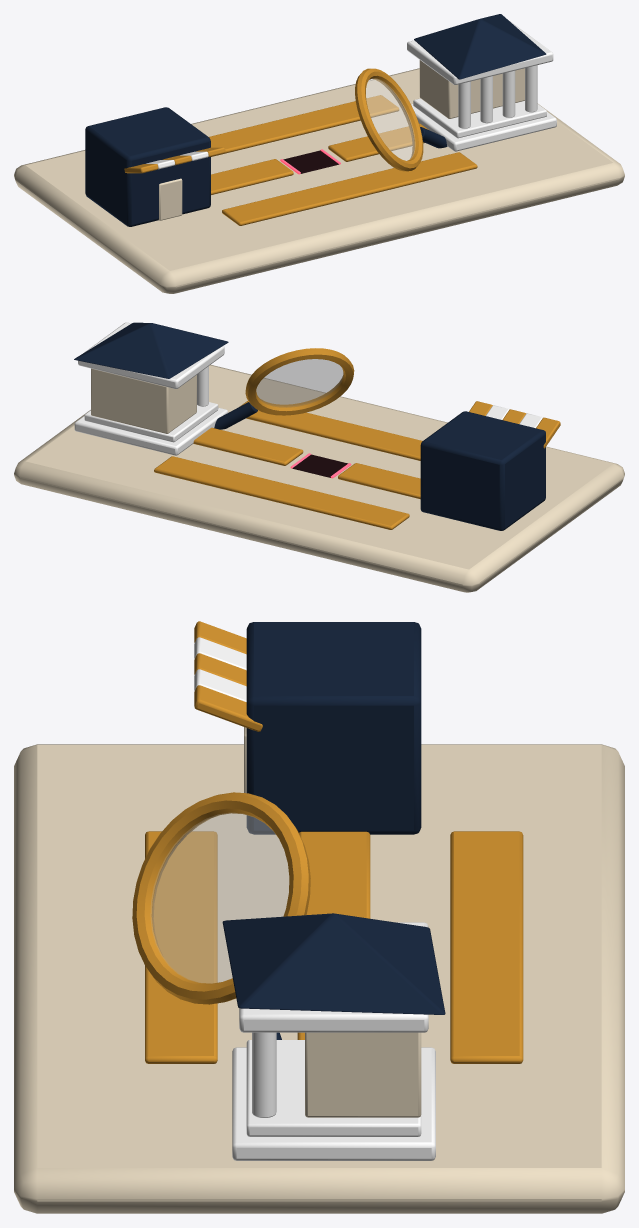
Rendered from flow.glb.
The picture shows the model from 3 angles, top to bottom: view 1: azimuth 30°, elevation 25°; view 2: azimuth 150°, elevation 25°; view 3: azimuth 270°, elevation 25°; orthographic projection. The views are drawn at different scales.
Visible parts, largest first — view 1: ground, shop, lane, Cone, lane.003, lens-rim, core, lens, steps, base, lane.001, roof (+7 smaller); view 2: ground, shop, lane.003, Cone, core, lane, lens, lens-rim, steps, lane.002, lane.001, roof (+4 smaller); view 3: ground, shop, Cone, lane.003, lens, lane, core, lens-rim, steps, base, lane.001, roof (+6 smaller).
Part boxes in pixels (x1,y1,x2,y2): ground: (14,68,624,293); shop: (85,107,210,226); lane: (222,152,477,225); Cone: (414,14,546,79); lane.003: (209,95,399,156); lens-rim: (355,68,423,171); core: (419,60,524,118); lens: (366,78,415,160); steps: (411,103,556,151); base: (413,98,546,138); lane.001: (211,159,293,194); roof: (407,20,553,84); ground: (14,364,624,592); shop: (420,411,545,530); lane.003: (154,456,409,529); Cone: (74,322,228,378); core: (91,368,196,433); lane: (239,401,422,460); lens: (256,359,343,407); lens-rim: (245,348,354,415); steps: (74,407,227,455); lane.002: (193,427,303,465); lane.001: (338,463,420,499); roof: (78,322,224,388); ground: (14,744,624,1213); shop: (246,622,421,834); Cone: (222,913,445,1014); lane.003: (450,831,523,1063); lens: (150,813,288,983); lane: (145,831,217,1063); core: (305,1032,421,1117); lens-rim: (132,792,310,1004); steps: (232,1047,435,1160); base: (246,1040,421,1136); lane.001: (299,831,370,918); roof: (239,922,428,1032).
Bounding box in the file's own units: 7.2 × 1.85 × 4.2.
